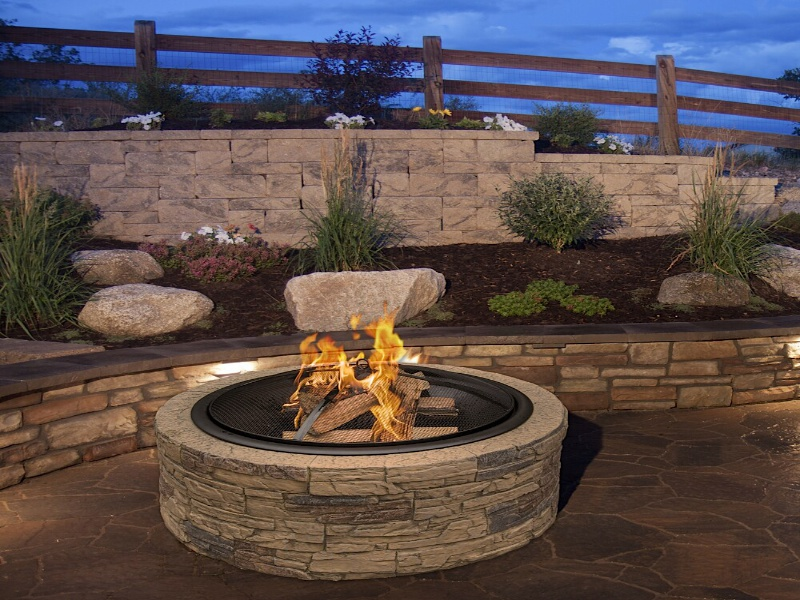fire: (300, 316, 412, 427)
